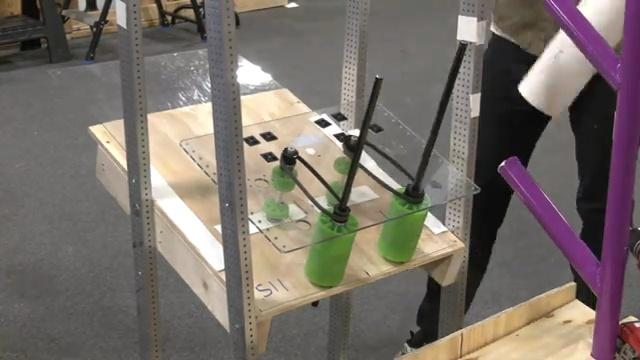CORAL: (518, 0, 626, 115)
